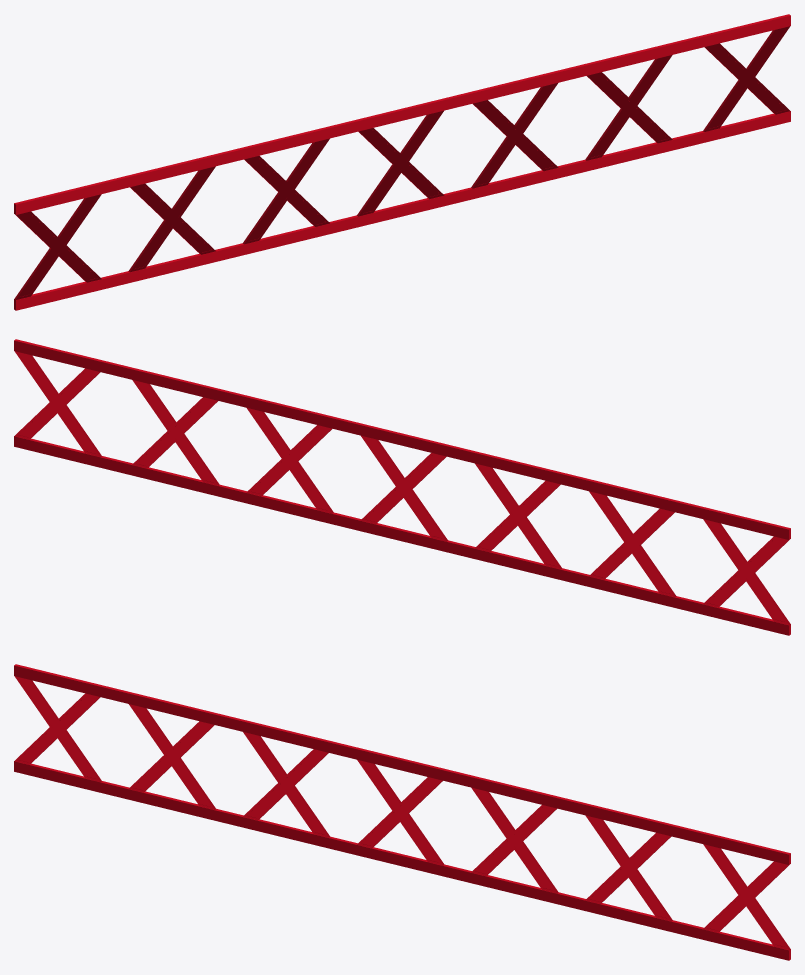
File: Ferraille_plafond.FBX
3 renders of one model, top to bottom at view 1: azimuth 30°, elevation 25°; view 2: azimuth 150°, elevation 25°; view 3: azimuth 330°, elevation 25°, orthographic.
Parts seen in each view (by area): view 1: Structure_Toit; view 2: Structure_Toit; view 3: Structure_Toit.
Boxes of the visible parts, left/top/right/bottom form: Structure_Toit: left=14, top=14, right=790, bottom=310; Structure_Toit: left=14, top=339, right=790, bottom=635; Structure_Toit: left=14, top=664, right=790, bottom=960.
Bounding box in the file's own units: 1944 × 254 × 8.35.
